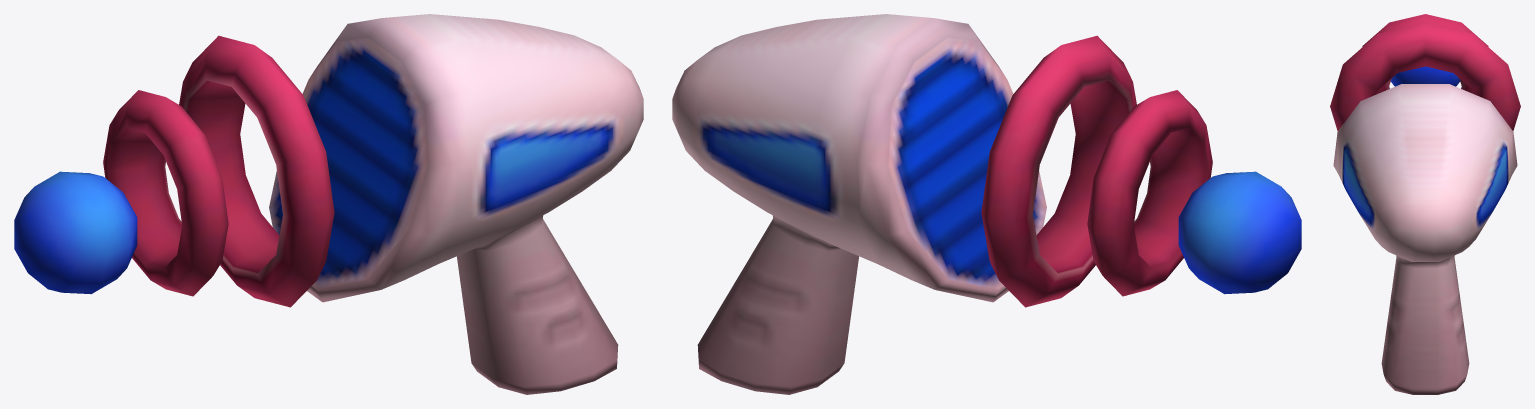
The model's file is toygun2.fbx.
The picture shows the model from 3 angles, left to right: view 1: azimuth 30°, elevation 25°; view 2: azimuth 150°, elevation 25°; view 3: azimuth 270°, elevation 25°; orthographic projection. The views are drawn at different scales.
Visible parts, largest first — view 1: toygun_2; view 2: toygun_2; view 3: toygun_2.
Part boxes in pixels (box(x1,y1,x2,y2)): toygun_2: box(14, 14, 643, 394); toygun_2: box(672, 14, 1301, 394); toygun_2: box(1330, 14, 1520, 394).
Size of the model in its own units: 14.42 by 8.88 by 5.87.
